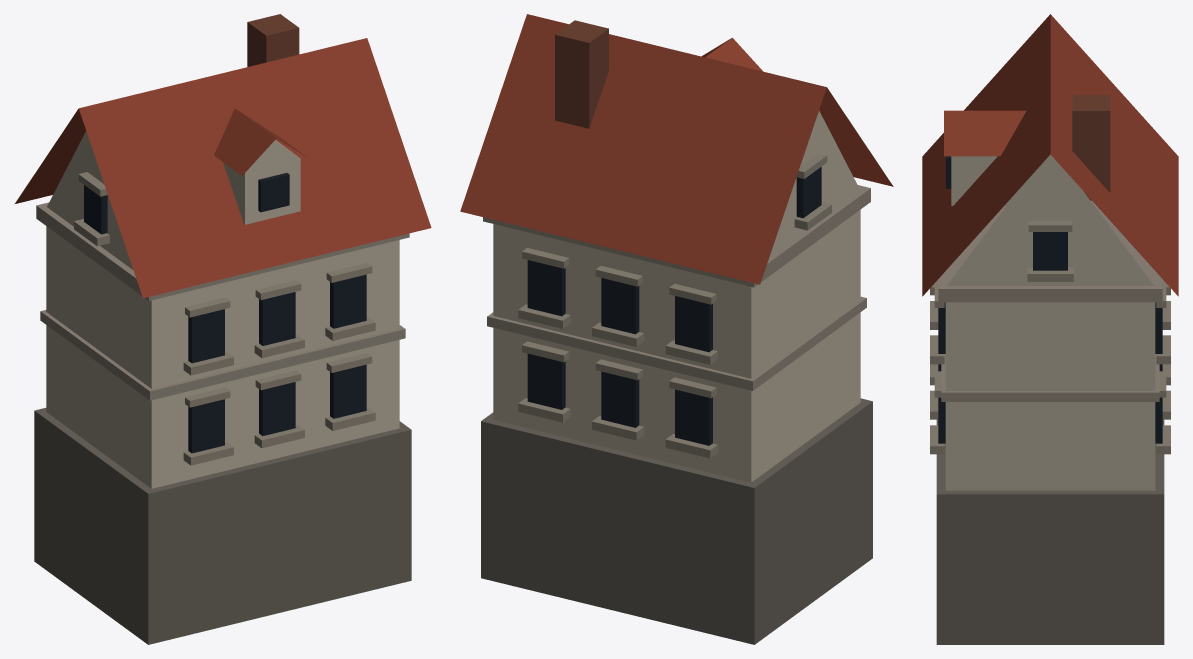
Rendered from bldg_north_townhouse.glb.
3 views of the same model, side by side, from view 1: azimuth 30°, elevation 25°; view 2: azimuth 150°, elevation 25°; view 3: azimuth 270°, elevation 25° (orthographic). The views are drawn at different scales.
Visible parts, largest first — view 1: NorthTownhouse; view 2: NorthTownhouse; view 3: NorthTownhouse.
Part boxes in pixels (x1=…): NorthTownhouse: x1=15, y1=14, x2=431, y2=644; NorthTownhouse: x1=460, y1=14, x2=893, y2=644; NorthTownhouse: x1=922, y1=14, x2=1178, y2=644.
Bounding box in the file's own units: 1.14 × 1.94 × 0.88.
